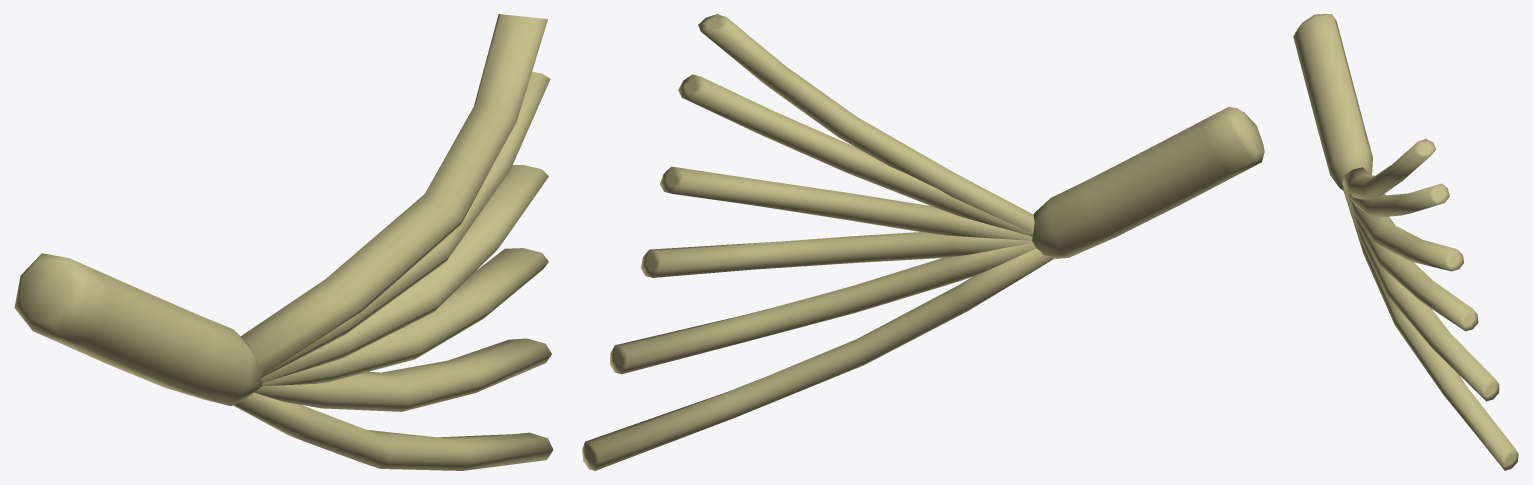
The model's file is Nerves_R7.FBX.
3 renders of one model, left to right at view 1: azimuth 30°, elevation 25°; view 2: azimuth 150°, elevation 25°; view 3: azimuth 270°, elevation 25°, orthographic. The views are drawn at different scales.
Visible parts, largest first — view 1: Nerves_R7; view 2: Nerves_R7; view 3: Nerves_R7.
Boxes of the visible parts, x1,y1,x2,y2 form: Nerves_R7: [14, 14, 553, 470]; Nerves_R7: [582, 14, 1264, 470]; Nerves_R7: [1293, 14, 1518, 470].
Bounding box in the file's own units: 0.00784 × 0.00573 × 0.00388.
